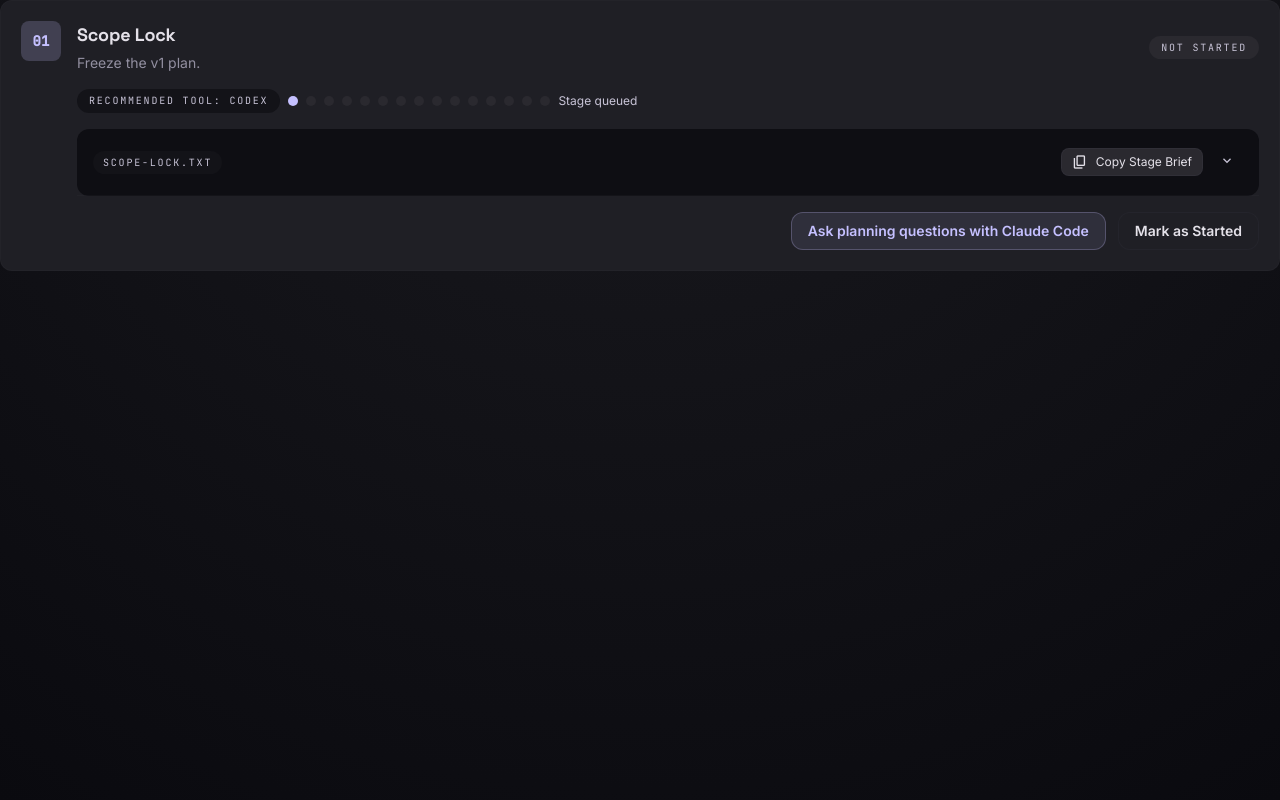
Test: BuildStageCard › renders structured planning questions instead of raw JSON
The width and height of the screenshot is (1280, 800).
Step 1. Click the button "Ask planning questions with Claude Code" → (948, 231), box [791,212,1106,250]
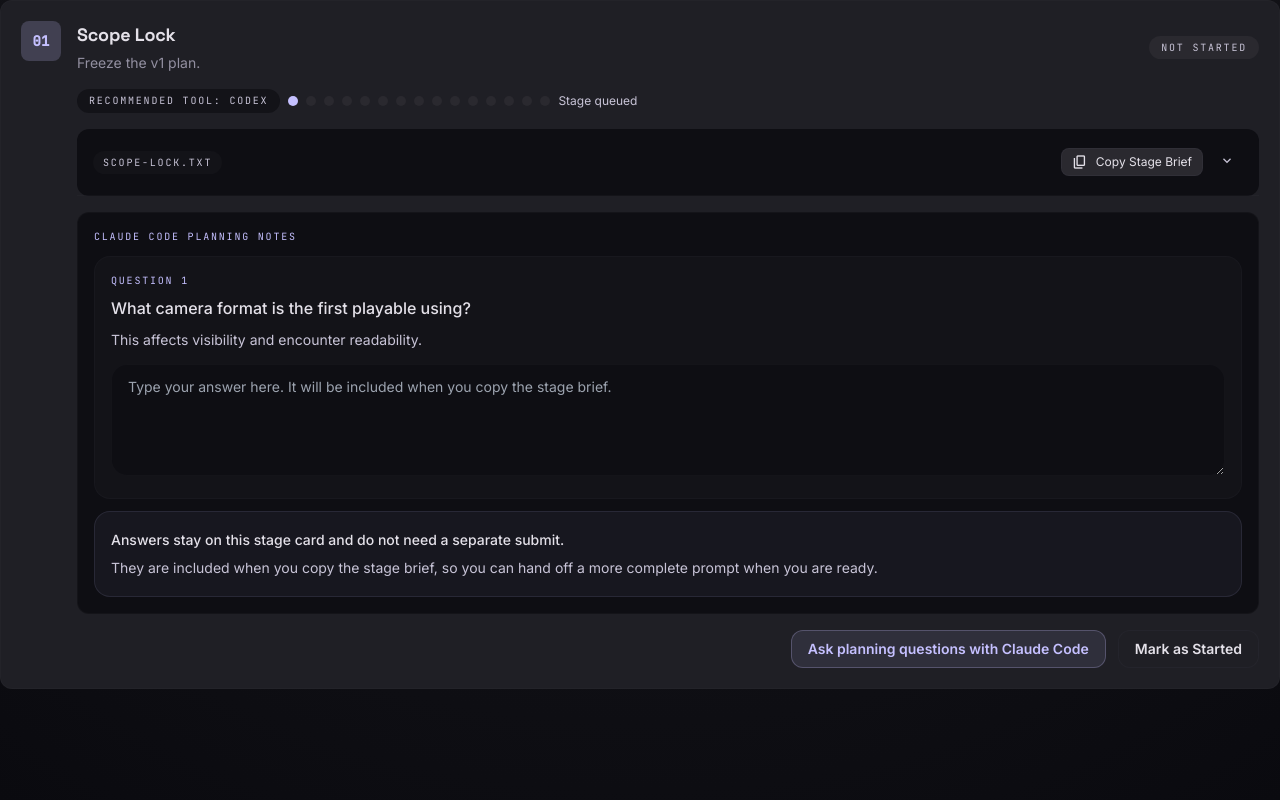
Expected: the text "Recommended tool: codex" is shown, [77,89,280,113]
Result: the text "Question 1" is shown at [111,274,189,287]
Result: the text "What camera format is the first playable using?" is shown at [111,298,471,318]
